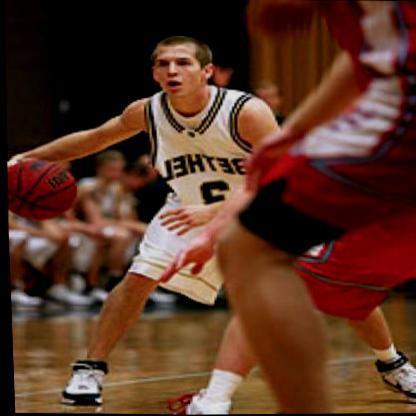basketball: (7, 157, 79, 225)
